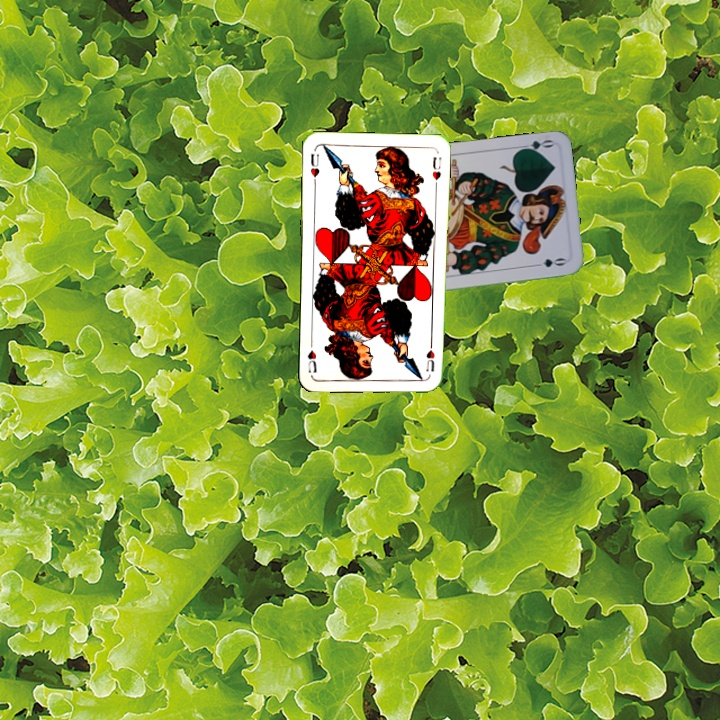GO: (514, 135, 555, 155)
HU: (306, 149, 322, 187), (422, 346, 437, 374)
